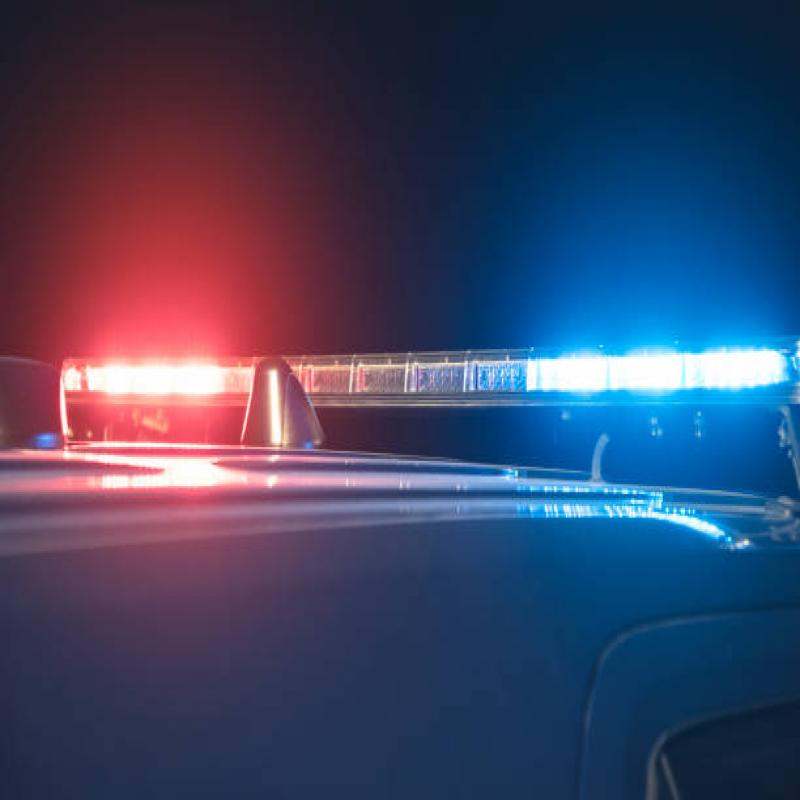AmbulanceSiren: (32, 320, 800, 456)
